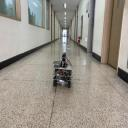cart: (52, 63, 72, 89)
